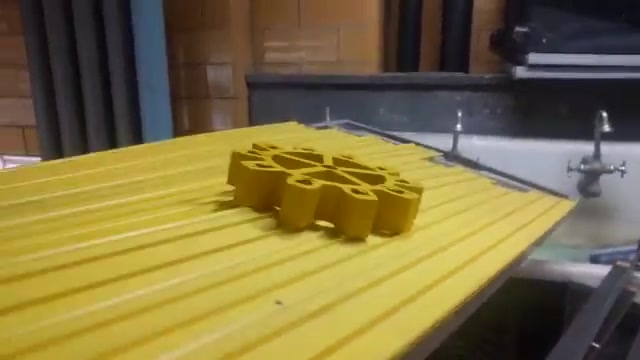gear: (225, 131, 427, 248)
